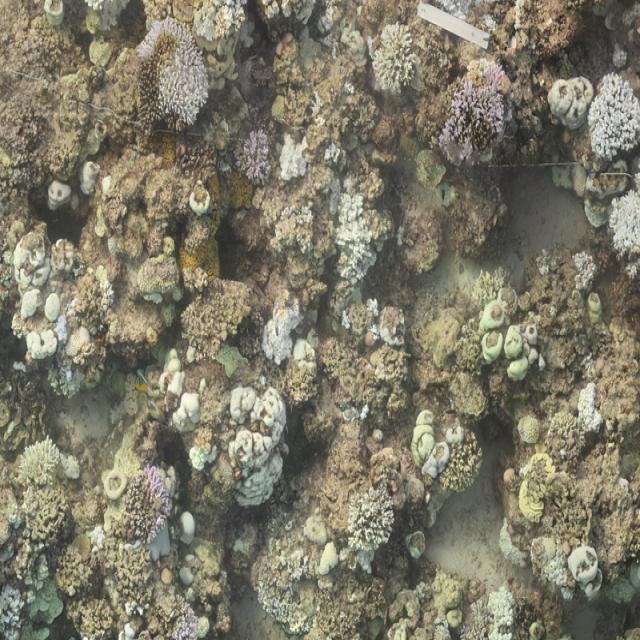Bleached Coral: (8, 218, 82, 363), (158, 328, 223, 489), (228, 382, 297, 517), (332, 179, 385, 295), (586, 66, 640, 162), (366, 19, 426, 101), (337, 485, 410, 549), (256, 299, 308, 363), (602, 182, 640, 264), (570, 379, 609, 449), (276, 139, 317, 187)
Healthy Coral: (134, 18, 220, 122)
